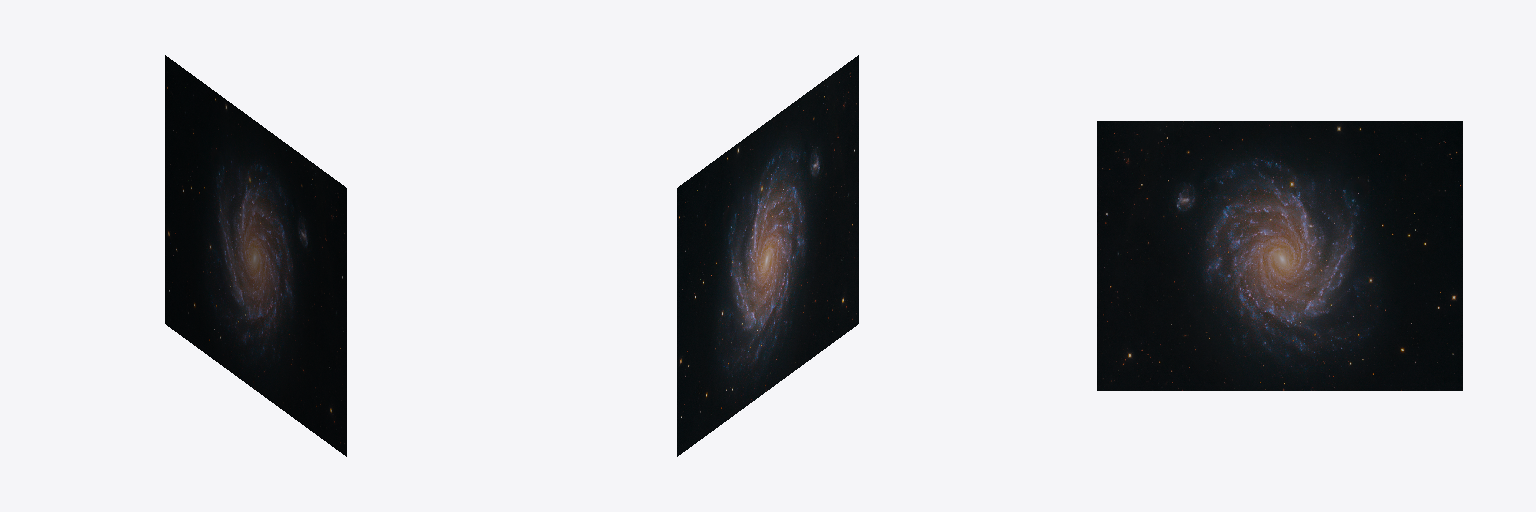
3 views of the same model, side by side, from view 1: azimuth 30°, elevation 25°; view 2: azimuth 150°, elevation 25°; view 3: azimuth 270°, elevation 25° (orthographic).
Parts seen in each view (by area): view 1: pPlane1; view 2: pPlane1; view 3: pPlane1.
Boxes of the visible parts, x1,y1,x2,y2 form: pPlane1: [165, 55, 346, 456]; pPlane1: [677, 55, 858, 456]; pPlane1: [1097, 121, 1462, 390].
Size of the model in its own units: 0 by 81.45 by 100.
1 materials, 1 textured.